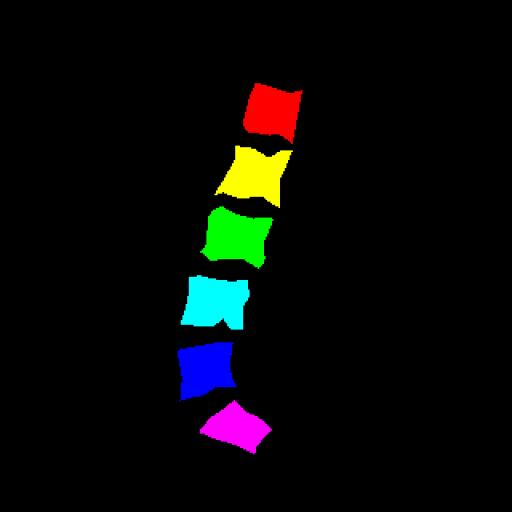L1: (243, 83, 302, 143)
L2: (215, 146, 292, 206)
L3: (201, 206, 273, 268)
L4: (181, 275, 250, 330)
L5: (178, 343, 236, 400)
S1: (200, 400, 271, 454)
